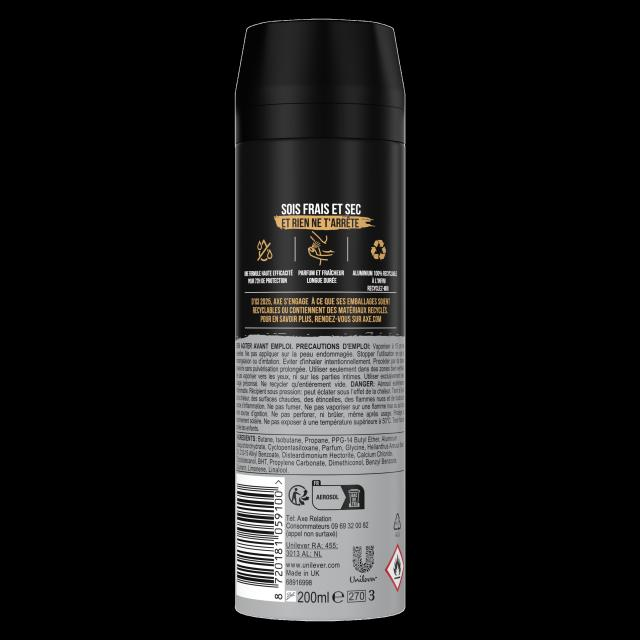GHS_Symbol_FLAME: (386, 543, 405, 594)
